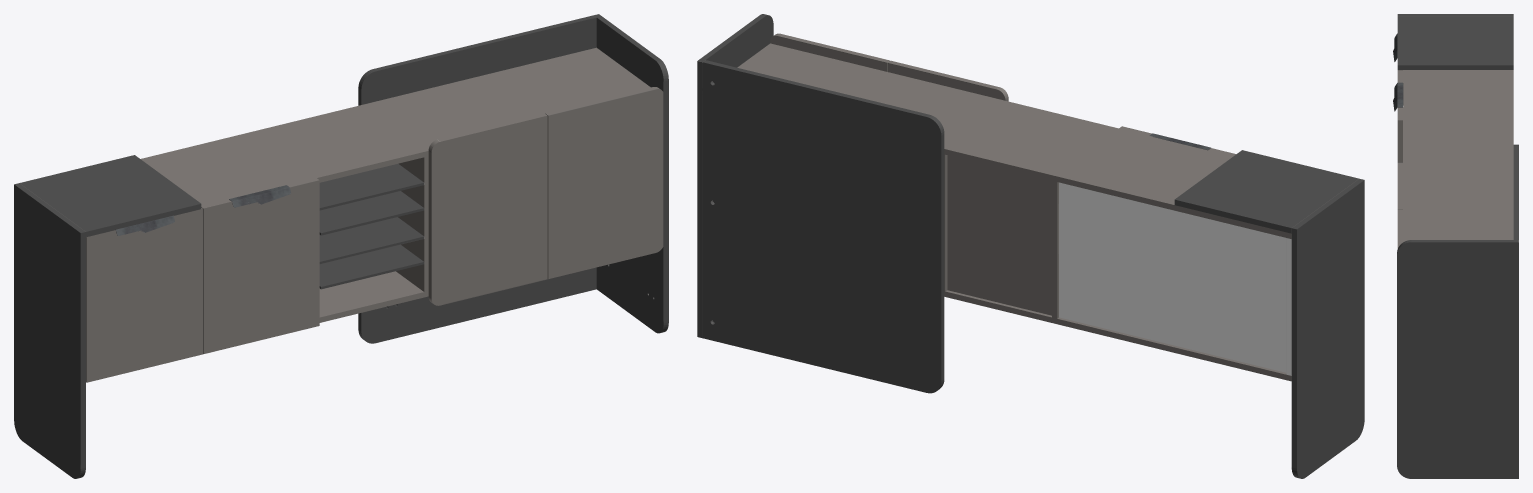
The model's file is cortedolap3d.glb.
3 views of the same model, side by side, from view 1: azimuth 30°, elevation 25°; view 2: azimuth 150°, elevation 25°; view 3: azimuth 270°, elevation 25° (orthographic). The views are drawn at different scales.
Visible parts, largest first — view 1: ASSET_Joined; view 2: ASSET_Joined; view 3: ASSET_Joined.
Part boxes in pixels (x1,y1,x2,y2): ASSET_Joined: (14, 14, 668, 478); ASSET_Joined: (697, 14, 1364, 478); ASSET_Joined: (1393, 14, 1518, 478).
Bounding box in the file's own units: 2.04 × 0.912 × 0.4338.
1 material, 1 textured.
